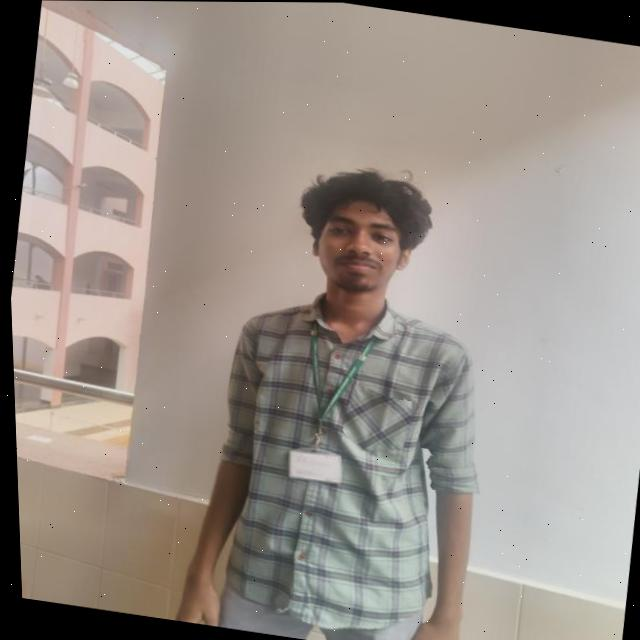id_card: (274, 303, 371, 490)
